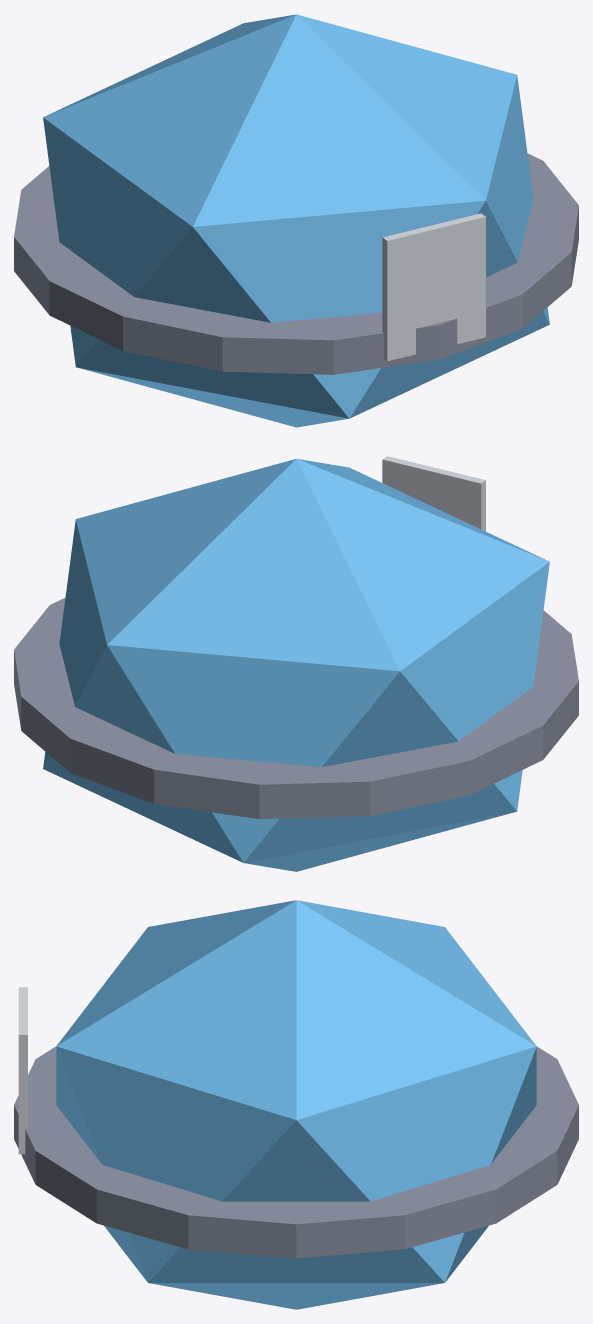
Rendered from colony-hab-dome.glb.
3 renders of one model, top to bottom at view 1: azimuth 30°, elevation 25°; view 2: azimuth 150°, elevation 25°; view 3: azimuth 270°, elevation 25°, orthographic.
Parts seen in each view (by area): view 1: hab_dome; view 2: hab_dome; view 3: hab_dome.
Boxes of the visible parts, bbox=[...] form: hab_dome: bbox=[14, 14, 578, 427]; hab_dome: bbox=[14, 456, 578, 871]; hab_dome: bbox=[14, 900, 578, 1309].
Size of the model in its own units: 6 by 4.8 by 6.
